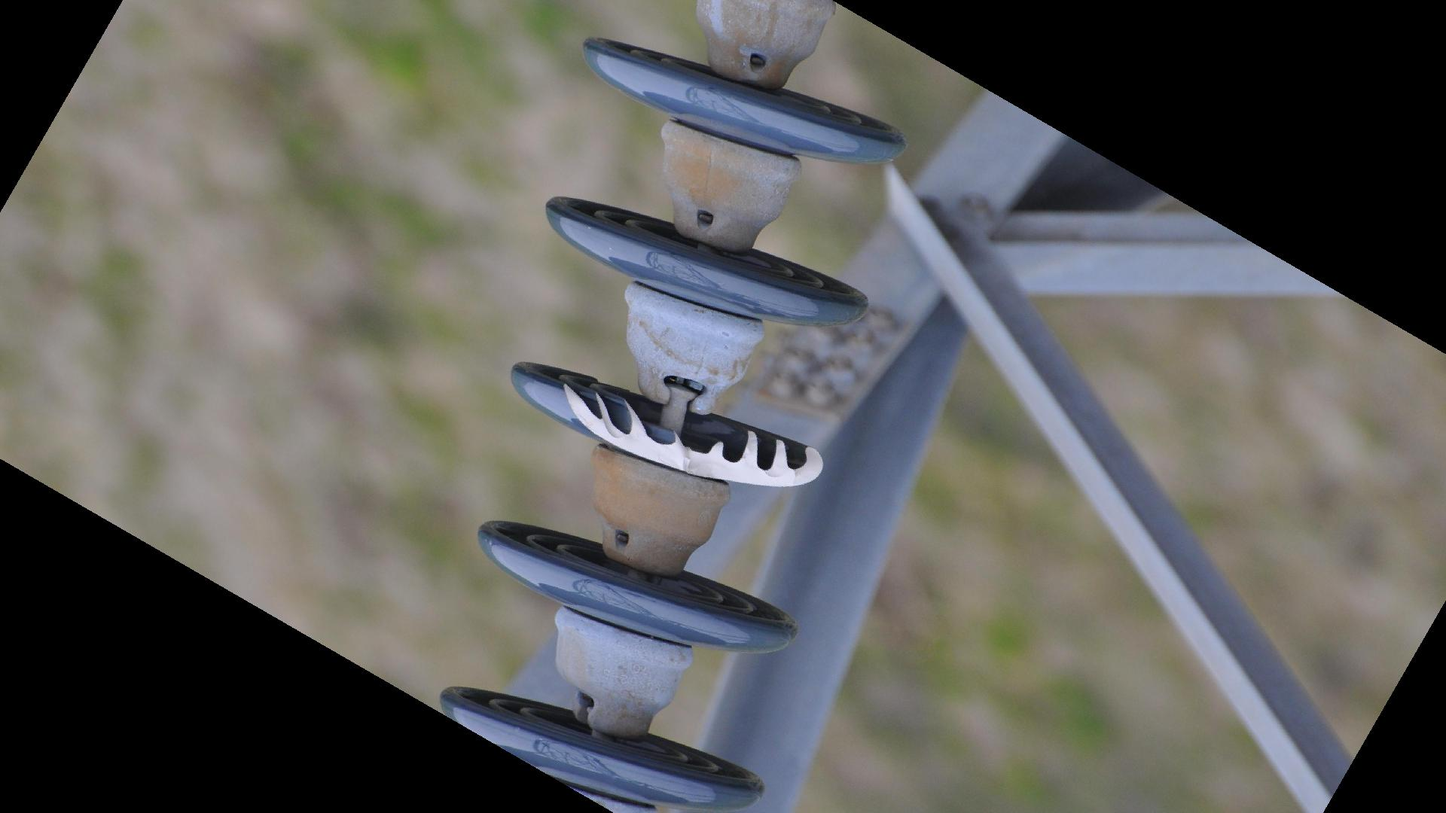insulator: (432, 32, 914, 813)
insulator_breakage: (550, 367, 833, 497)
